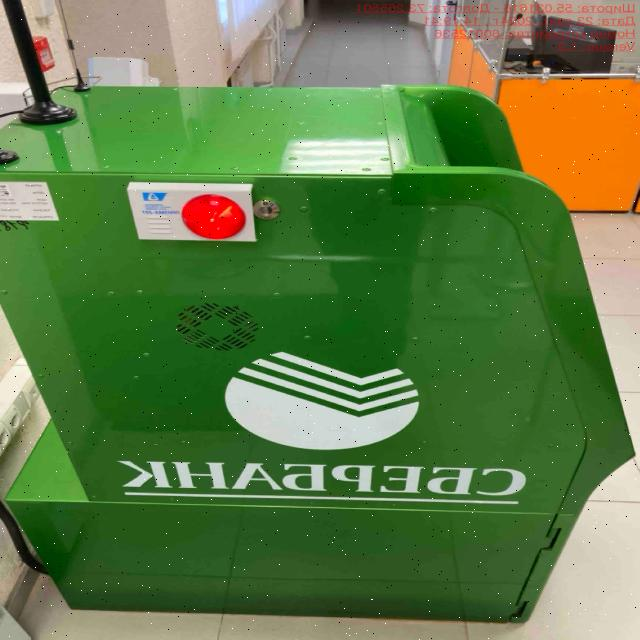bank: (0, 84, 640, 616)
